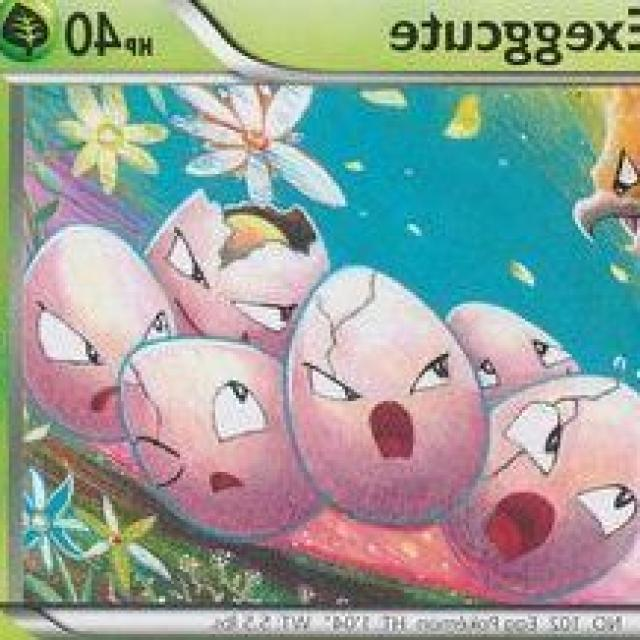Exeggcute: (19, 202, 640, 531)
